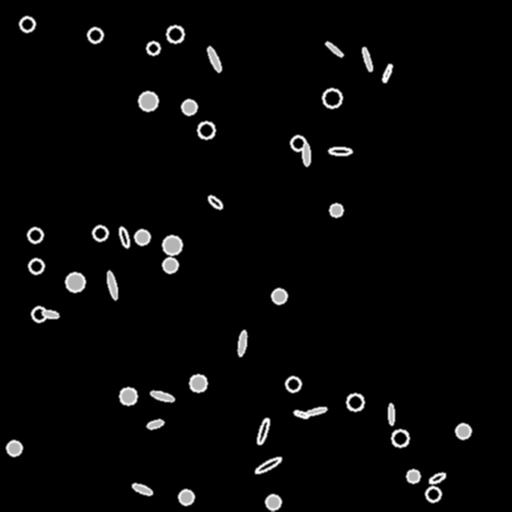pseudomonas: (254, 456, 282, 474), (105, 270, 119, 300), (206, 46, 222, 72), (149, 389, 175, 403), (256, 418, 270, 444), (324, 40, 344, 58), (361, 46, 373, 72), (132, 482, 152, 496), (118, 226, 130, 248), (207, 194, 223, 210), (428, 471, 446, 485), (237, 331, 247, 355), (381, 63, 393, 83), (305, 406, 327, 416), (146, 418, 164, 430), (302, 142, 310, 166), (328, 147, 352, 155), (41, 309, 59, 319), (293, 409, 309, 419), (388, 403, 394, 425)
synechocystis: (163, 236, 181, 254), (139, 92, 157, 110), (66, 273, 84, 291), (323, 89, 341, 107), (167, 26, 183, 42), (347, 394, 363, 410), (392, 430, 408, 446), (190, 375, 206, 391), (120, 388, 136, 404), (198, 122, 214, 138), (182, 100, 196, 114), (456, 424, 470, 438), (88, 28, 102, 42), (32, 307, 46, 321), (272, 289, 286, 303), (286, 377, 300, 391), (93, 226, 107, 240), (20, 17, 34, 31), (7, 441, 21, 455), (426, 487, 440, 501), (28, 228, 42, 242), (163, 258, 177, 272), (135, 230, 149, 244), (266, 495, 280, 509), (291, 136, 305, 150), (29, 259, 43, 273), (179, 490, 193, 504), (330, 204, 342, 216), (407, 470, 419, 482), (147, 42, 159, 54)
